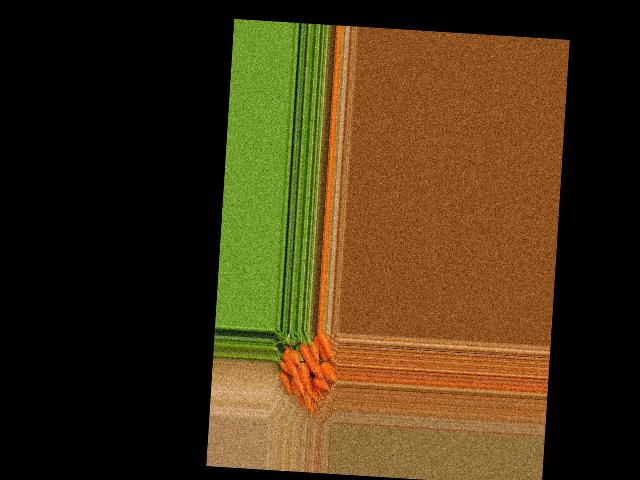carrot: (276, 362, 292, 377)
